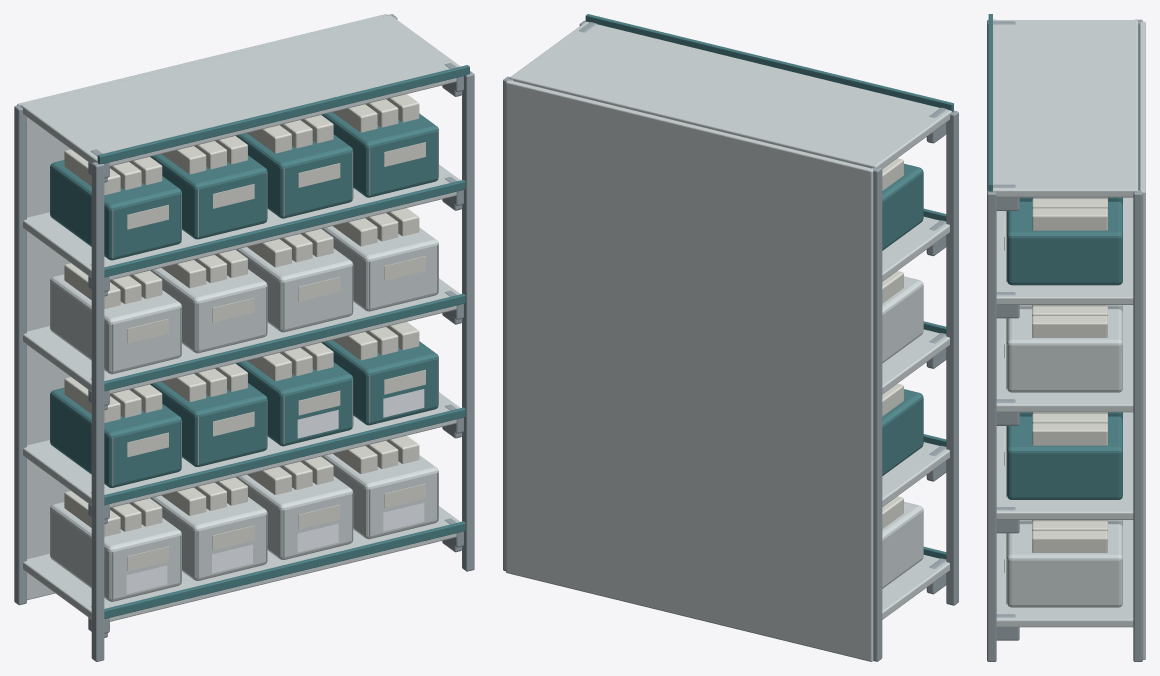
The model's file is SF_SupplyRack.fbx.
The picture shows the model from 3 angles, left to right: view 1: azimuth 30°, elevation 25°; view 2: azimuth 150°, elevation 25°; view 3: azimuth 270°, elevation 25°; orthographic projection. The views are drawn at different scales.
Parts seen in each view (by area): view 1: SF_SupplyRack; view 2: SF_SupplyRack; view 3: SF_SupplyRack.
Boxes of the visible parts, bbox=[...] form: SF_SupplyRack: bbox=[14, 14, 474, 661]; SF_SupplyRack: bbox=[503, 14, 958, 661]; SF_SupplyRack: bbox=[987, 14, 1145, 661].
Bounding box in the file's own units: 164 × 208 × 62.95.
